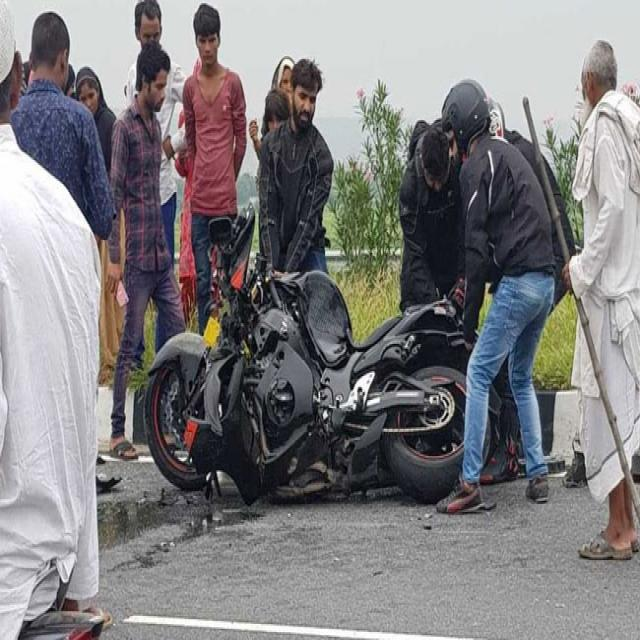accident: (145, 211, 468, 504)
